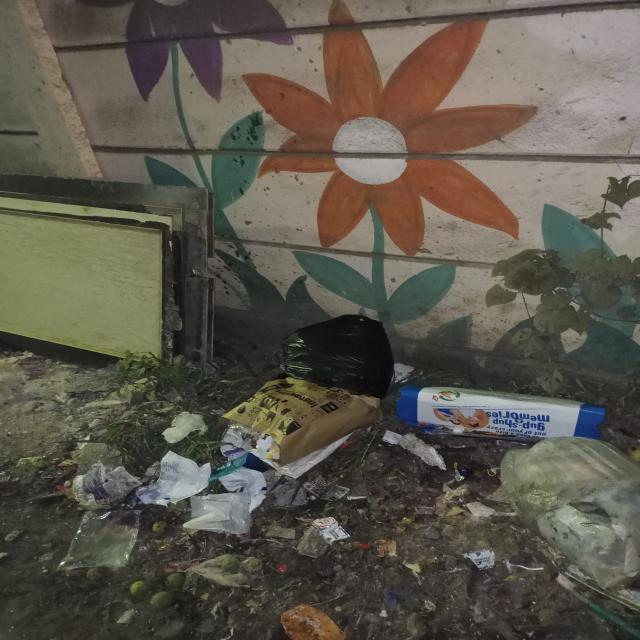garbage: (25, 324, 640, 639)
